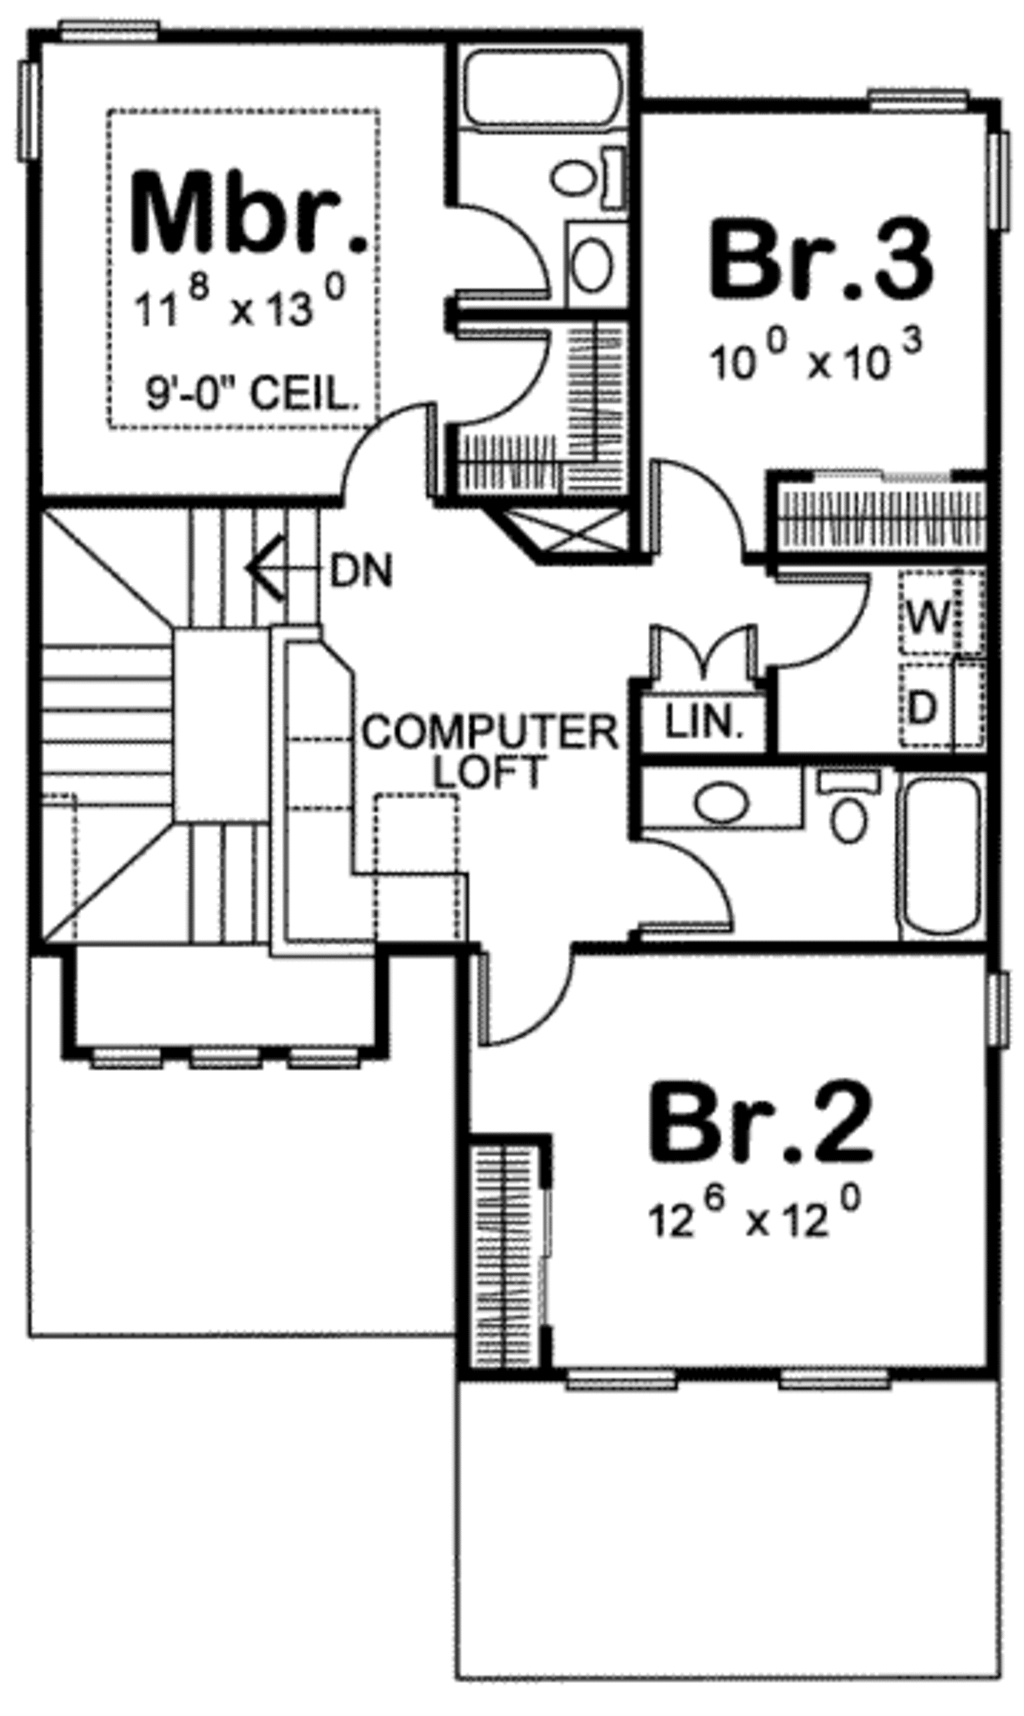door: (297, 379, 432, 513), (461, 936, 580, 1062), (620, 834, 750, 942), (441, 193, 555, 313), (641, 447, 755, 561), (777, 563, 886, 676), (634, 618, 773, 700), (450, 329, 560, 424)
large_sink: (809, 760, 889, 860), (547, 134, 634, 218)
small_sink: (630, 770, 816, 845), (563, 206, 625, 313)
stairs: (39, 497, 363, 945)
tub: (457, 33, 639, 133), (898, 767, 991, 943)
window: (77, 1029, 372, 1086), (781, 1350, 920, 1399), (957, 959, 1024, 1053), (857, 77, 980, 126), (973, 124, 1020, 249), (48, 11, 172, 58), (7, 58, 55, 175), (563, 1372, 692, 1397)
